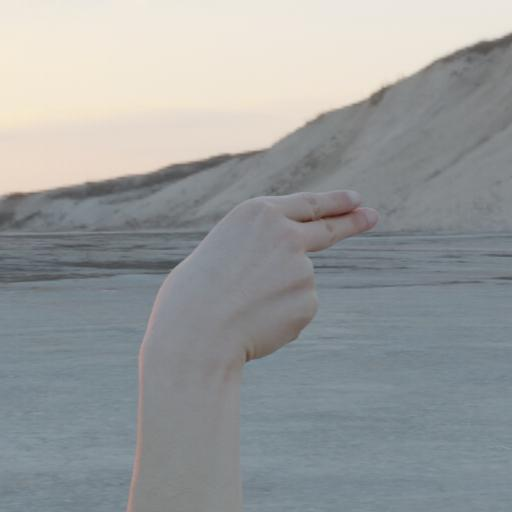H: (130, 181, 386, 409)
